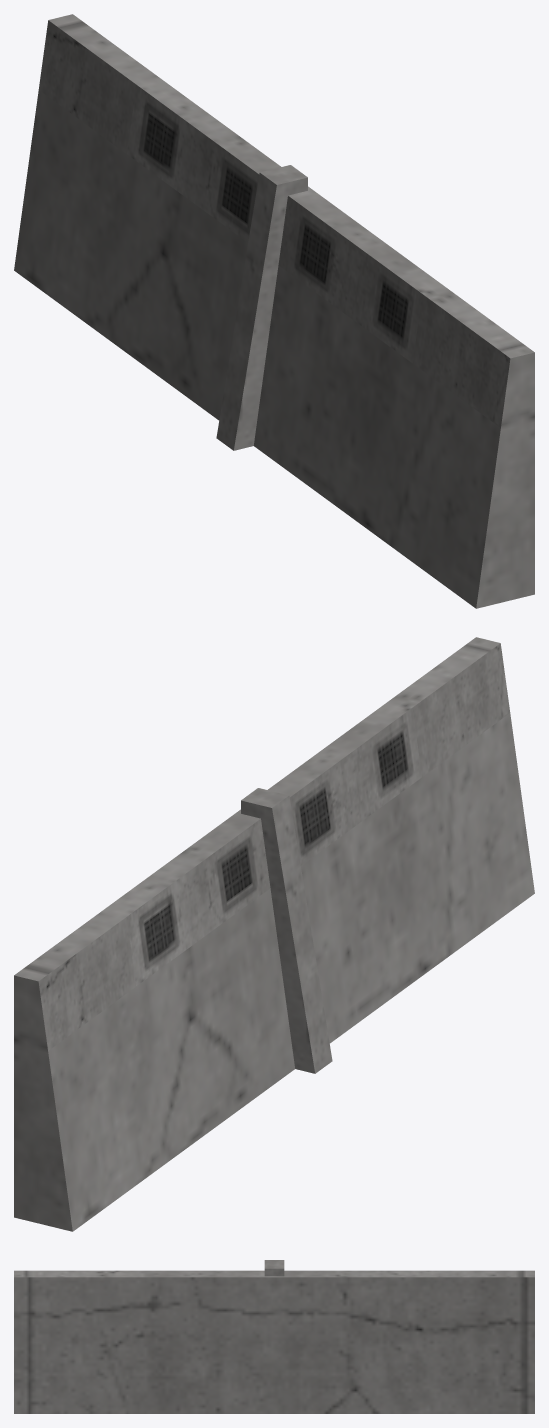
Rendered from HH_Fence_Background.fbx.
3 views of the same model, one above another, from view 1: azimuth 30°, elevation 25°; view 2: azimuth 150°, elevation 25°; view 3: azimuth 270°, elevation 25° (orthographic). The views are drawn at different scales.
Parts seen in each view (by area): view 1: HH_Fence_Background; view 2: HH_Fence_Background; view 3: HH_Fence_Background.
Boxes of the visible parts, bbox=[...] form: HH_Fence_Background: bbox=[14, 14, 534, 608]; HH_Fence_Background: bbox=[14, 637, 534, 1231]; HH_Fence_Background: bbox=[14, 1260, 534, 1413].
Bounding box in the file's own units: 39.38 × 122 × 400.
